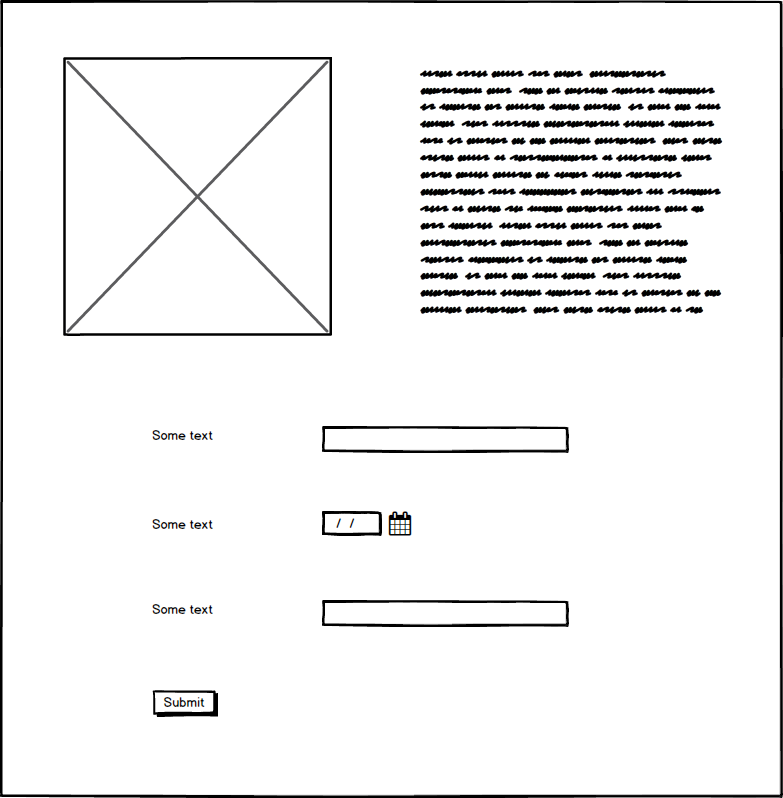date_picker: (316, 506, 416, 544)
image: (55, 52, 339, 344)
input: (316, 595, 579, 635), (315, 422, 577, 460)
label: (148, 516, 220, 538), (145, 600, 220, 619), (145, 427, 217, 445)
p: (415, 65, 731, 319)
